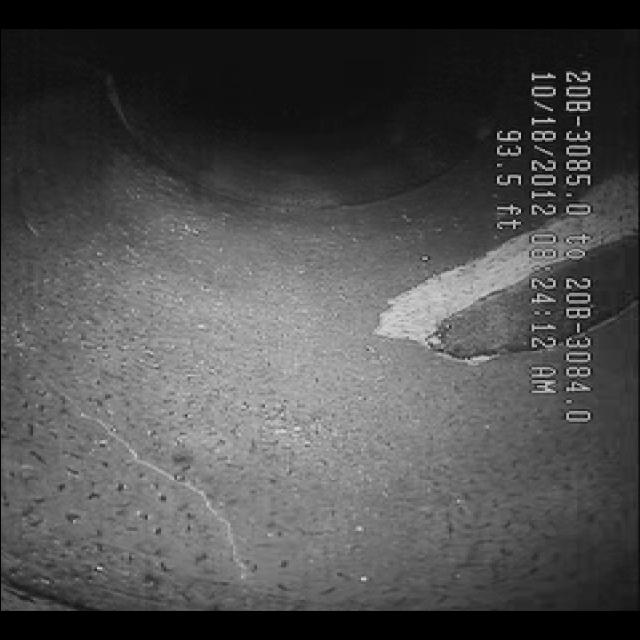Crack: (66, 414, 281, 580)
